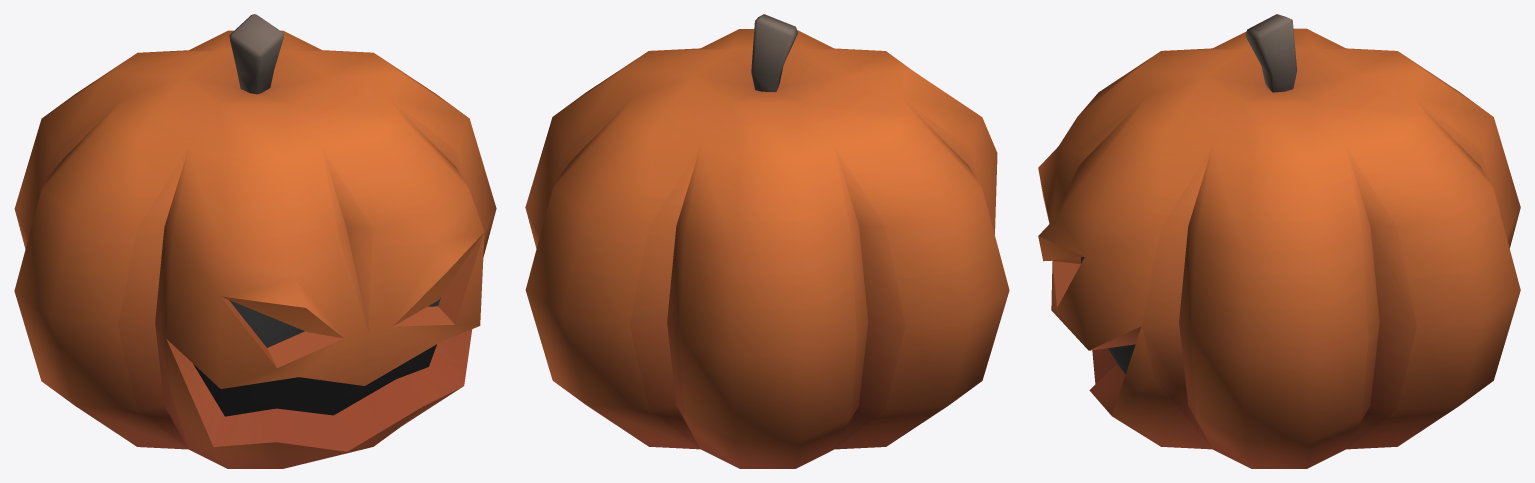
File: kaykit-halloween-bits-pumpkin-orange-jackolantern.glb
The picture shows the model from 3 angles, left to right: view 1: azimuth 30°, elevation 25°; view 2: azimuth 150°, elevation 25°; view 3: azimuth 270°, elevation 25°; orthographic projection.
Parts seen in each view (by area): view 1: pumpkin_orange_jackolantern; view 2: pumpkin_orange_jackolantern; view 3: pumpkin_orange_jackolantern.
Boxes of the visible parts, x1,y1,x2,y2 form: pumpkin_orange_jackolantern: [14, 14, 496, 468]; pumpkin_orange_jackolantern: [525, 14, 1009, 468]; pumpkin_orange_jackolantern: [1038, 14, 1520, 468].
Size of the model in its own units: 1.5 by 1.3 by 1.4.
Materials: 1 (1 with a texture image).
